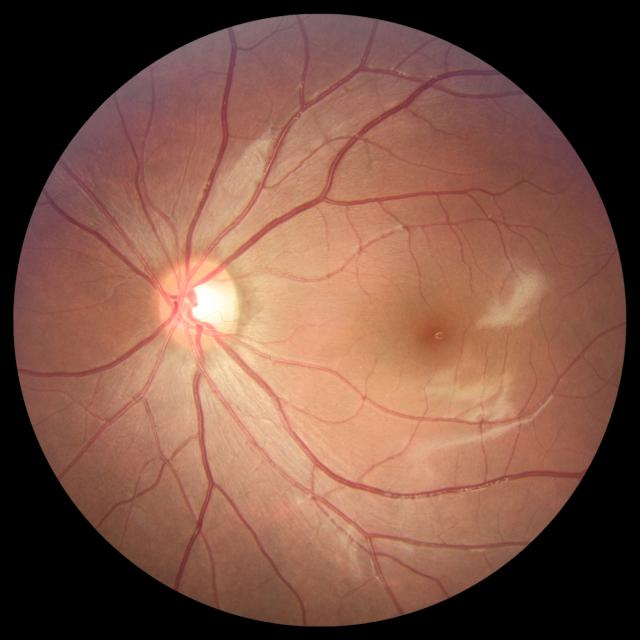OC: (180, 279, 235, 328)
OD: (162, 258, 238, 348)
